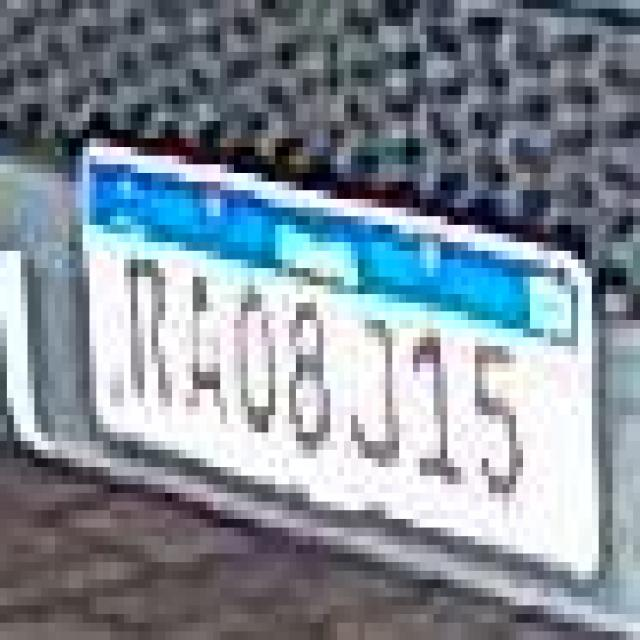1: (408, 320, 463, 498)
5: (472, 328, 529, 514)
8: (282, 288, 335, 459)
A: (180, 259, 231, 429)
J: (347, 300, 400, 478)
O: (229, 282, 281, 436)
R: (120, 245, 177, 413)
